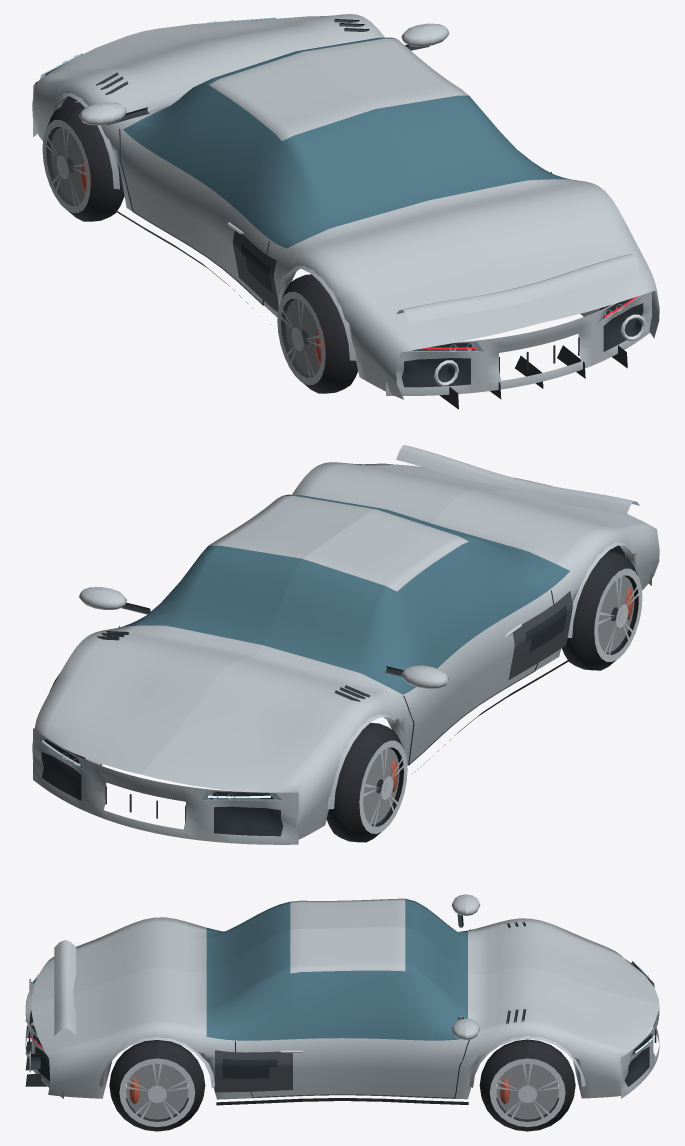
Rendered from apex_rs_low.glb.
3 views of the same model, one above another, from view 1: azimuth 30°, elevation 25°; view 2: azimuth 150°, elevation 25°; view 3: azimuth 270°, elevation 25° (orthographic). The views are drawn at different scales.
Visible parts, largest first — view 1: Body, Wheel_2, Wheel_0; view 2: Body, Wheel_0, Wheel_2; view 3: Body, Wheel_1, Wheel_3.
Part boxes in pixels (box(x1,y1,x2,y2)): Body: box(32, 14, 659, 409); Wheel_2: box(277, 274, 357, 393); Wheel_0: box(42, 102, 124, 221); Body: box(32, 445, 659, 844); Wheel_0: box(326, 722, 407, 842); Wheel_2: box(562, 551, 642, 670); Body: box(25, 894, 659, 1105); Wheel_1: box(479, 1039, 575, 1131); Wheel_3: box(109, 1040, 205, 1131).
Bounding box in the file's own units: 2.44 × 1.19 × 4.79.
